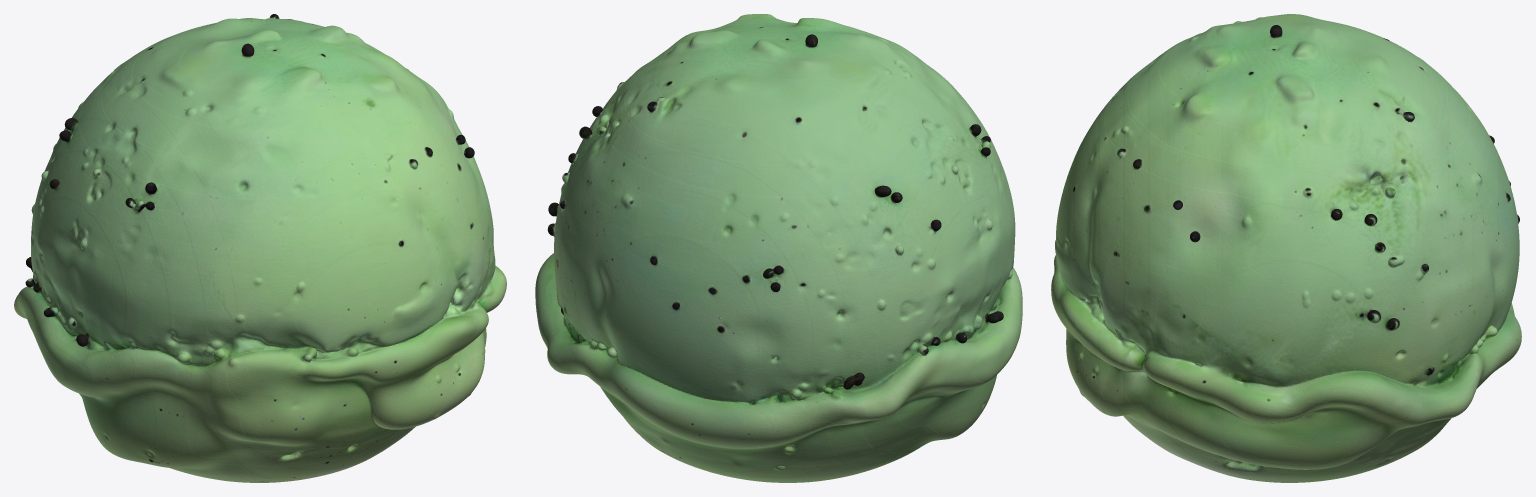
Rendered from scoop_menta.glb.
3 views of the same model, side by side, from view 1: azimuth 30°, elevation 25°; view 2: azimuth 150°, elevation 25°; view 3: azimuth 270°, elevation 25° (orthographic).
Parts seen in each view (by area): view 1: tripo_node_6d618240-22a6-4a4b-b966-e1d887eb1bfa; view 2: tripo_node_6d618240-22a6-4a4b-b966-e1d887eb1bfa; view 3: tripo_node_6d618240-22a6-4a4b-b966-e1d887eb1bfa.
Part boxes in pixels (x1=…): tripo_node_6d618240-22a6-4a4b-b966-e1d887eb1bfa: x1=14, y1=14, x2=506, y2=482; tripo_node_6d618240-22a6-4a4b-b966-e1d887eb1bfa: x1=535, y1=14, x2=1022, y2=482; tripo_node_6d618240-22a6-4a4b-b966-e1d887eb1bfa: x1=1051, y1=14, x2=1521, y2=482.
Size of the model in its own units: 1 by 0.9569 by 0.9723.
Materials: 1 (1 with a texture image).
